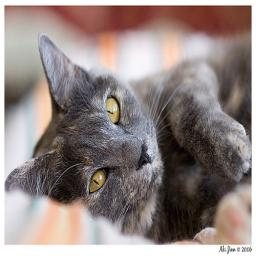catnose: (131, 137, 152, 171)
